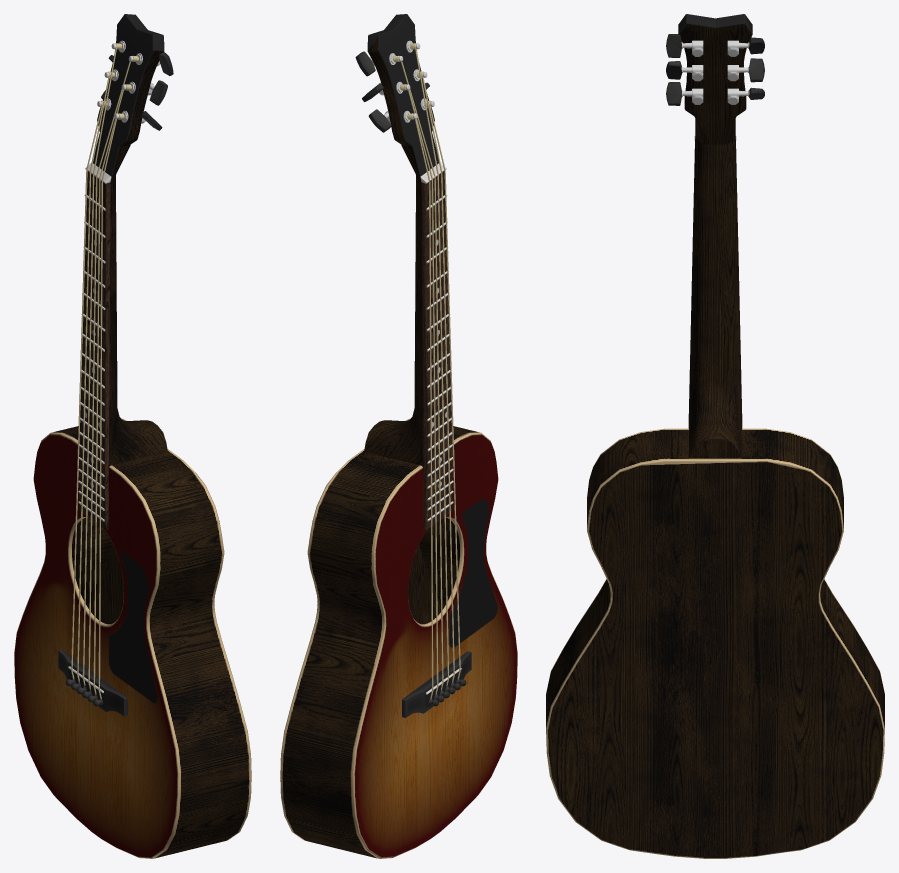
File: SM_AcousticGuitar_01.fbx
3 renders of one model, left to right at view 1: azimuth 30°, elevation 25°; view 2: azimuth 150°, elevation 25°; view 3: azimuth 270°, elevation 25°, orthographic. The views are drawn at different scales.
Parts seen in each view (by area): view 1: SM_AcousticGuitar_01_LOD0; view 2: SM_AcousticGuitar_01_LOD0; view 3: SM_AcousticGuitar_01_LOD0.
Part boxes in pixels (x1,y1,x2,y2): SM_AcousticGuitar_01_LOD0: (14, 14, 251, 858); SM_AcousticGuitar_01_LOD0: (280, 14, 517, 858); SM_AcousticGuitar_01_LOD0: (546, 14, 884, 858).
Size of the model in its own units: 12.77 by 38.24 by 103.
1 material, 1 textured.
